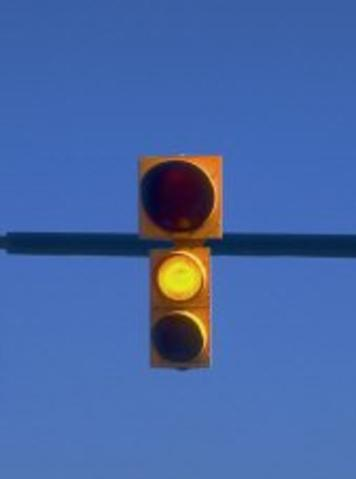yellow_light: (139, 156, 221, 368)
